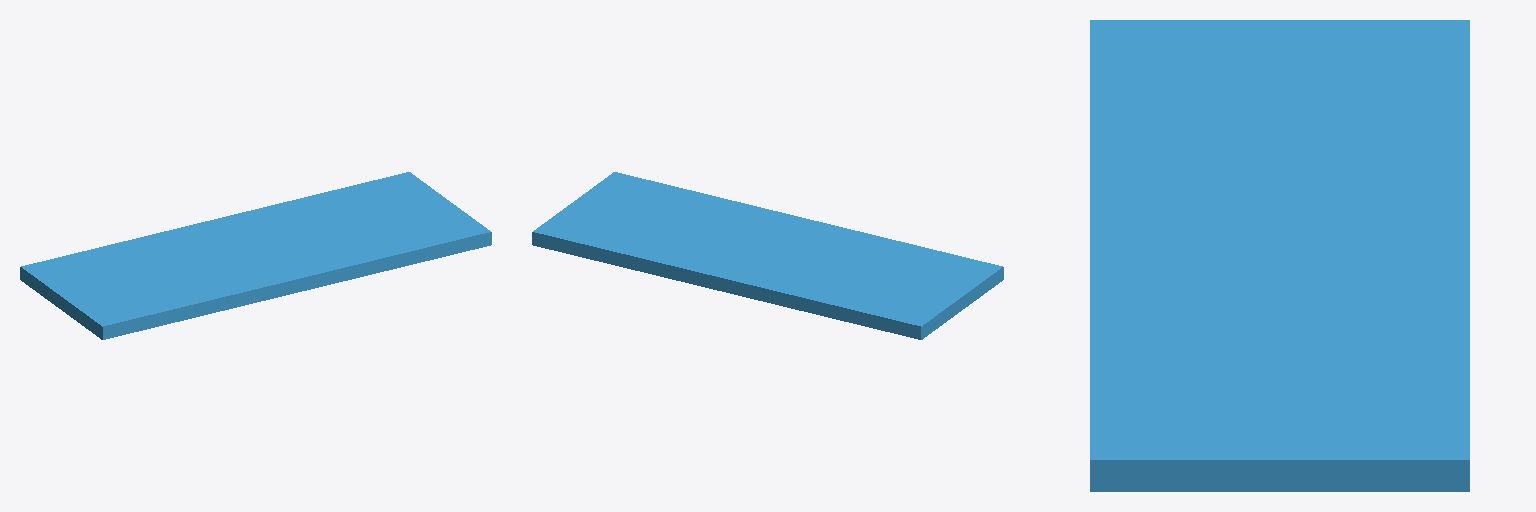
The robot description file, URDF, robot "cylinder_96":
    
    <robot name="cylinder_96">
        <link name="cylinder_96">    
            <fem>
                <origin rpy="0.0 0.0 0.0" xyz="0 0 0" />
                <density value="100" />
                <youngs value="1193"/>
                <poissons value="0.3" />
                <damping value="0.0" />
                <attachDistance value="0.01" />
                <tetmesh filename="[local-path]/sim_data/Custom/Custom_mesh/multi_cylinder_1kPa/cylinder_96.tet" />
                <scale value="0.5"/>
            </fem>
        </link>

        <link name="fix_frame">
            <visual>
                <origin xyz="0.0 0.0 10.07119033975515"/>
                <geometry>
                    <box size="0.15 0.05481844877242302 0.005"/>
                </geometry>
            </visual>
            <collision>
                <origin xyz="0.0 0.0 0.07119033975515061"/>
                <geometry>
                    <box size="0.15 0.05481844877242302 0.005"/>
                </geometry>
            </collision>
            <inertial>
                <mass value="500000"/>
                <inertia ixx="0.05" ixy="0.0" ixz="0.0" iyy="0.05" iyz="0.0" izz="0.05"/>
            </inertial>
        </link>
        
        <joint name = "attach" type = "fixed">
            <origin xyz = "0.0 0.0 0.0" rpy = "0 0 0"/>
            <parent link ="cylinder_96"/>
            <child link = "fix_frame"/>
        </joint>  




    </robot>
    

--- Facts derived from the render (not from the file) ---
The picture shows the robot from 3 angles, left to right: view 1: azimuth 30°, elevation 25°; view 2: azimuth 150°, elevation 25°; view 3: azimuth 270°, elevation 25°; orthographic projection.
Model cylinder_96 with 2 links and 1 joints (1 fixed), rooted at cylinder_96, posed every joint at zero.
Links seen in each view (by area): view 1: fix_frame; view 2: fix_frame; view 3: fix_frame.
Boxes of the visible links, x1,y1,x2,y2 form: fix_frame: [20, 172, 491, 339]; fix_frame: [532, 172, 1003, 339]; fix_frame: [1090, 20, 1469, 491].
Size in the robot's own frame: 0.15 by 0.0548 by 0.005 metres.
Geometry: primitives only (box / cylinder / sphere), no mesh files.
